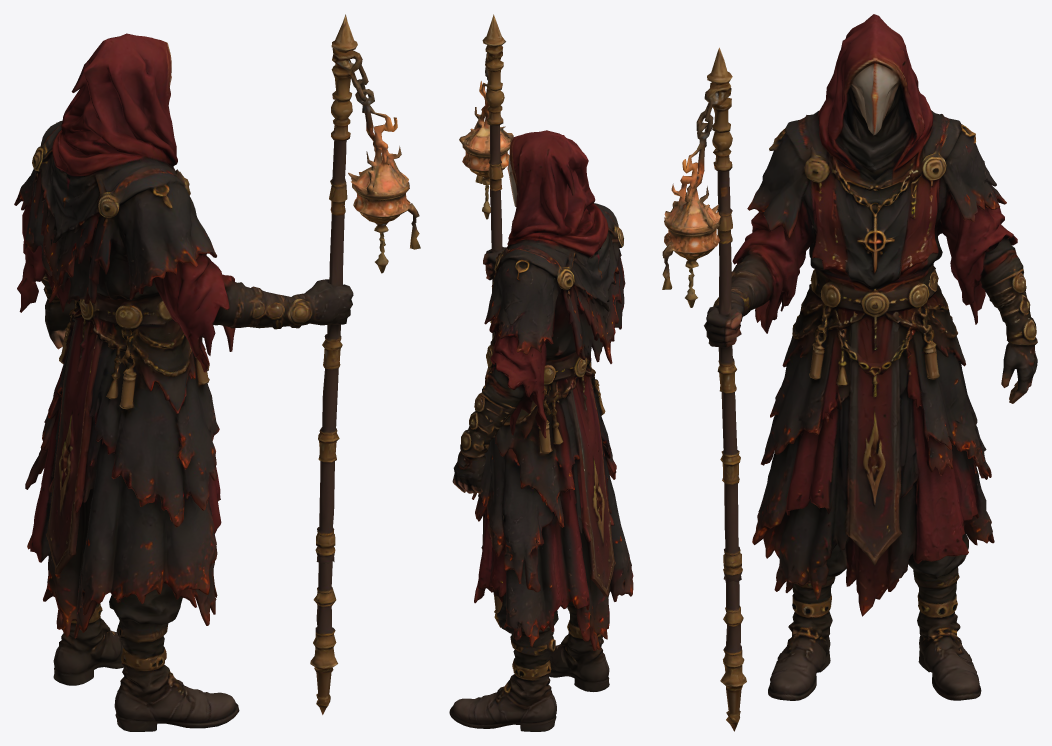
File: FlameCultist-tripo.glb
The picture shows the model from 3 angles, left to right: view 1: azimuth 30°, elevation 25°; view 2: azimuth 150°, elevation 25°; view 3: azimuth 270°, elevation 25°; orthographic projection. The views are drawn at different scales.
Visible parts, largest first — view 1: tripo_node_05cec691-8043-4a16-a87e-dc6e548ccd1b; view 2: tripo_node_05cec691-8043-4a16-a87e-dc6e548ccd1b; view 3: tripo_node_05cec691-8043-4a16-a87e-dc6e548ccd1b.
Part boxes in pixels (x1,y1,x2,y2): tripo_node_05cec691-8043-4a16-a87e-dc6e548ccd1b: (14, 14, 420, 731); tripo_node_05cec691-8043-4a16-a87e-dc6e548ccd1b: (449, 14, 633, 731); tripo_node_05cec691-8043-4a16-a87e-dc6e548ccd1b: (662, 14, 1037, 731).
Size of the model in its own units: 0.3916 by 1 by 0.4896.
1 material, 1 textured.
